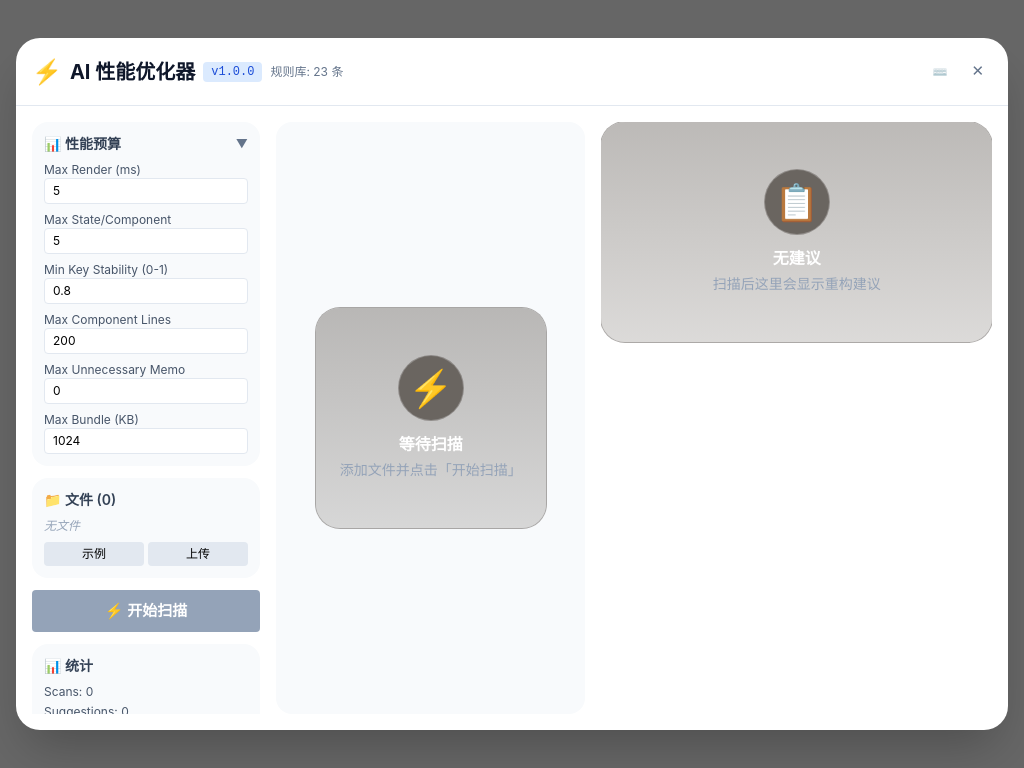
Test case: PerfOptimizerPanel › 加载示例文件
The image size is (1024, 768).
Click the button "示例" at coordinates (94, 554), box x1=44 y1=542 x2=144 y2=566
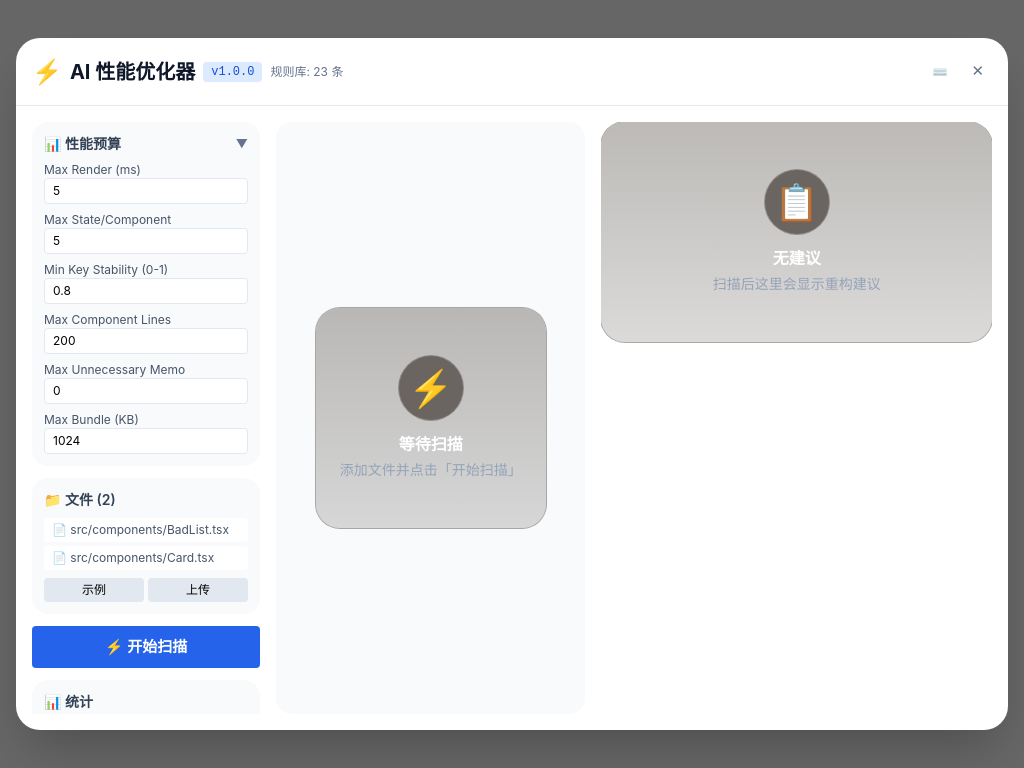
Expected: the heading "📁 文件 (2)" is shown, x1=44 y1=491 x2=116 y2=508
